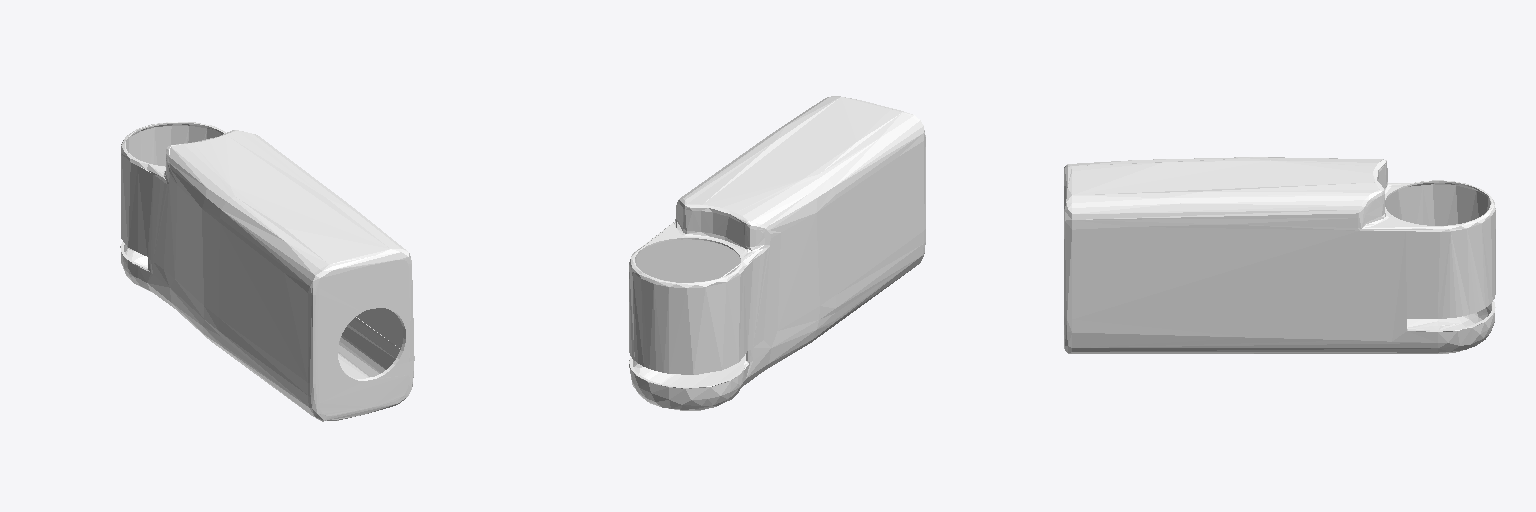
3 renders of one model, left to right at view 1: azimuth 30°, elevation 25°; view 2: azimuth 150°, elevation 25°; view 3: azimuth 270°, elevation 25°, orthographic.
Bounding box in the file's own units: 0.0765 × 0.1146 × 0.2728.
1 materials, 1 textured.